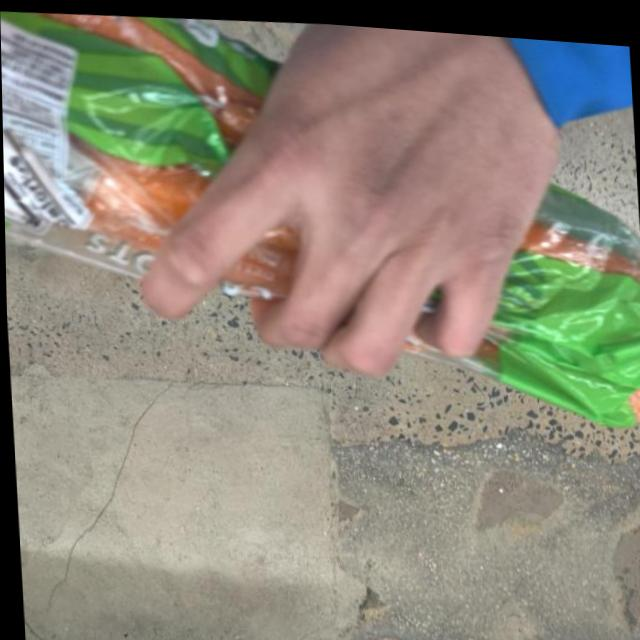Carrots: (0, 0, 640, 471)
